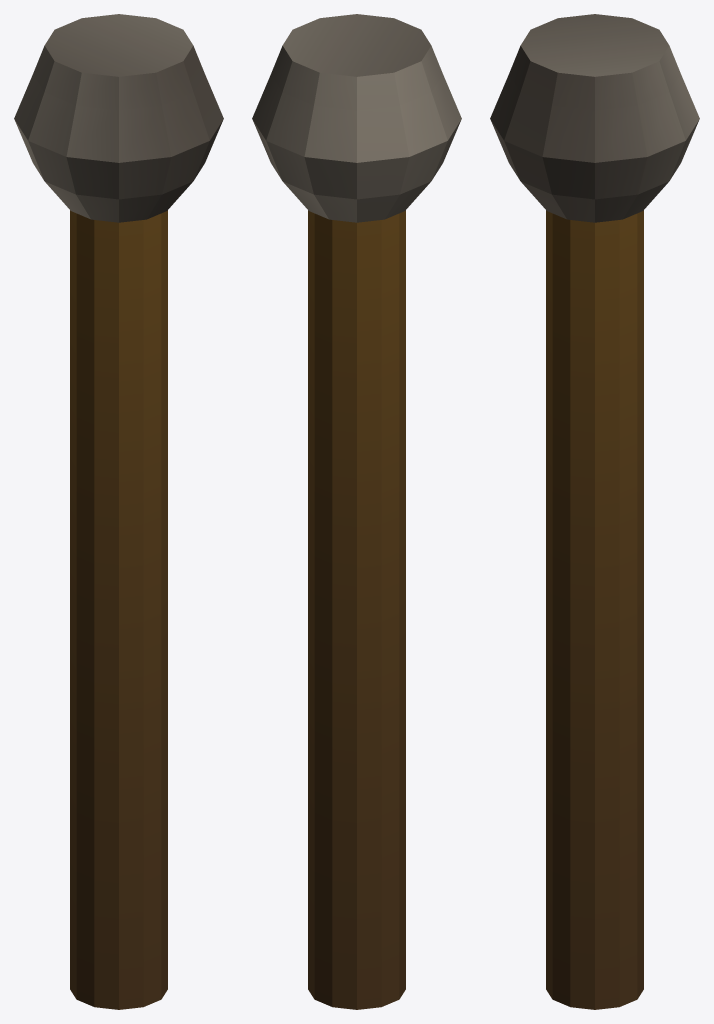
Rendered from Torch.fbx.
The picture shows the model from 3 angles, left to right: view 1: azimuth 30°, elevation 25°; view 2: azimuth 150°, elevation 25°; view 3: azimuth 270°, elevation 25°; orthographic projection.
Parts seen in each view (by area): view 1: Cylinder; view 2: Cylinder; view 3: Cylinder.
Boxes of the visible parts, x1=… form: Cylinder: x1=14, y1=14, x2=223, y2=1009; Cylinder: x1=252, y1=14, x2=461, y2=1009; Cylinder: x1=490, y1=14, x2=699, y2=1009.
Size of the model in its own units: 428 by 2124 by 428.
